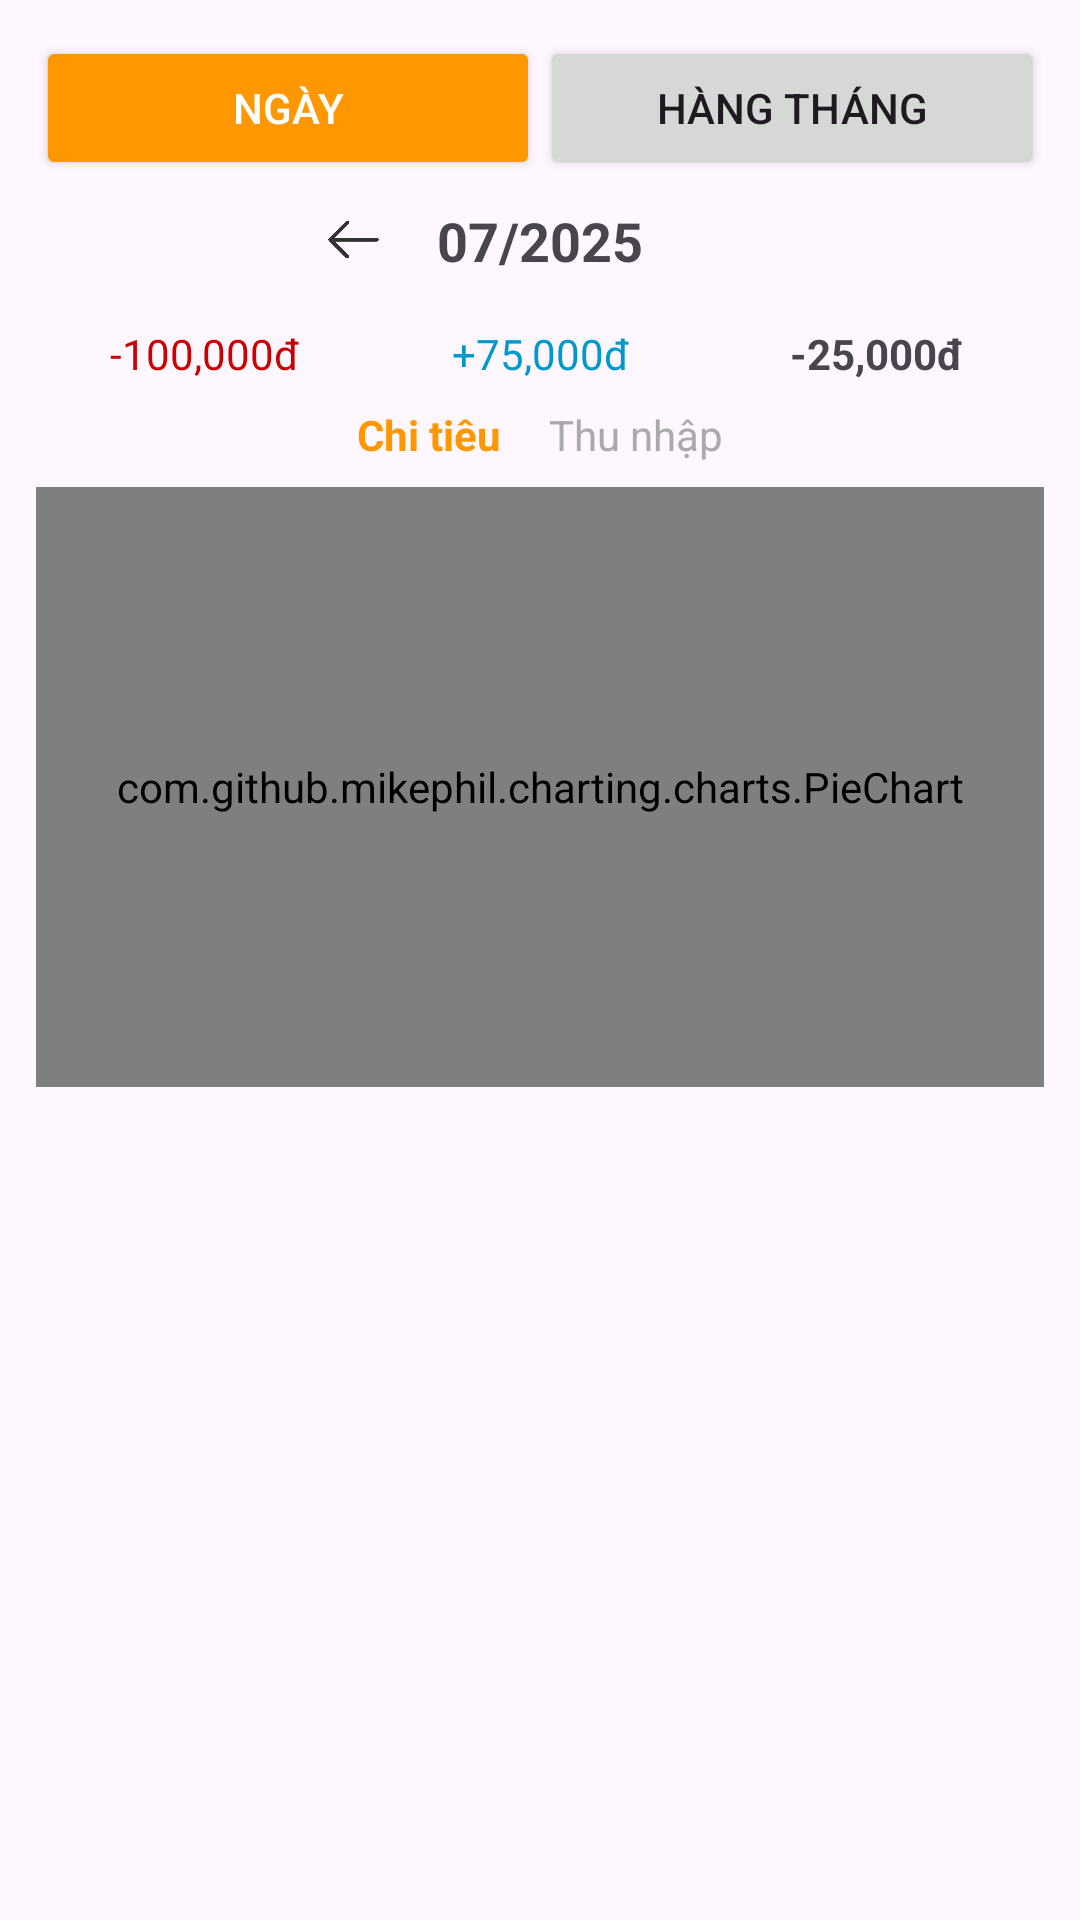

Screen size 1080×1920. Icon name, then its center in pixels as [x,y]:
arrow left: [353,240]
